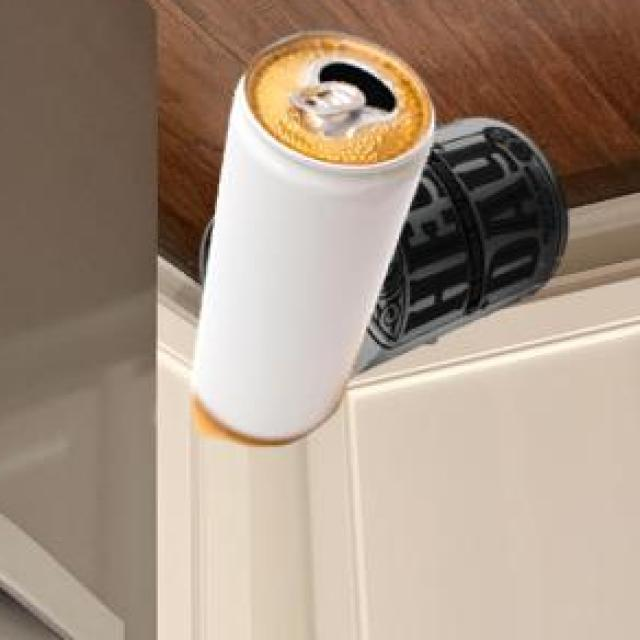logam: (194, 34, 435, 448), (203, 122, 571, 380)
